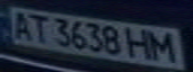3: (48, 16, 72, 48), (84, 20, 106, 54)
6: (66, 18, 87, 52)
8: (100, 24, 124, 56)
A: (6, 8, 36, 41)
H: (124, 26, 154, 61)
M: (148, 29, 184, 64)
T: (24, 11, 54, 44)
